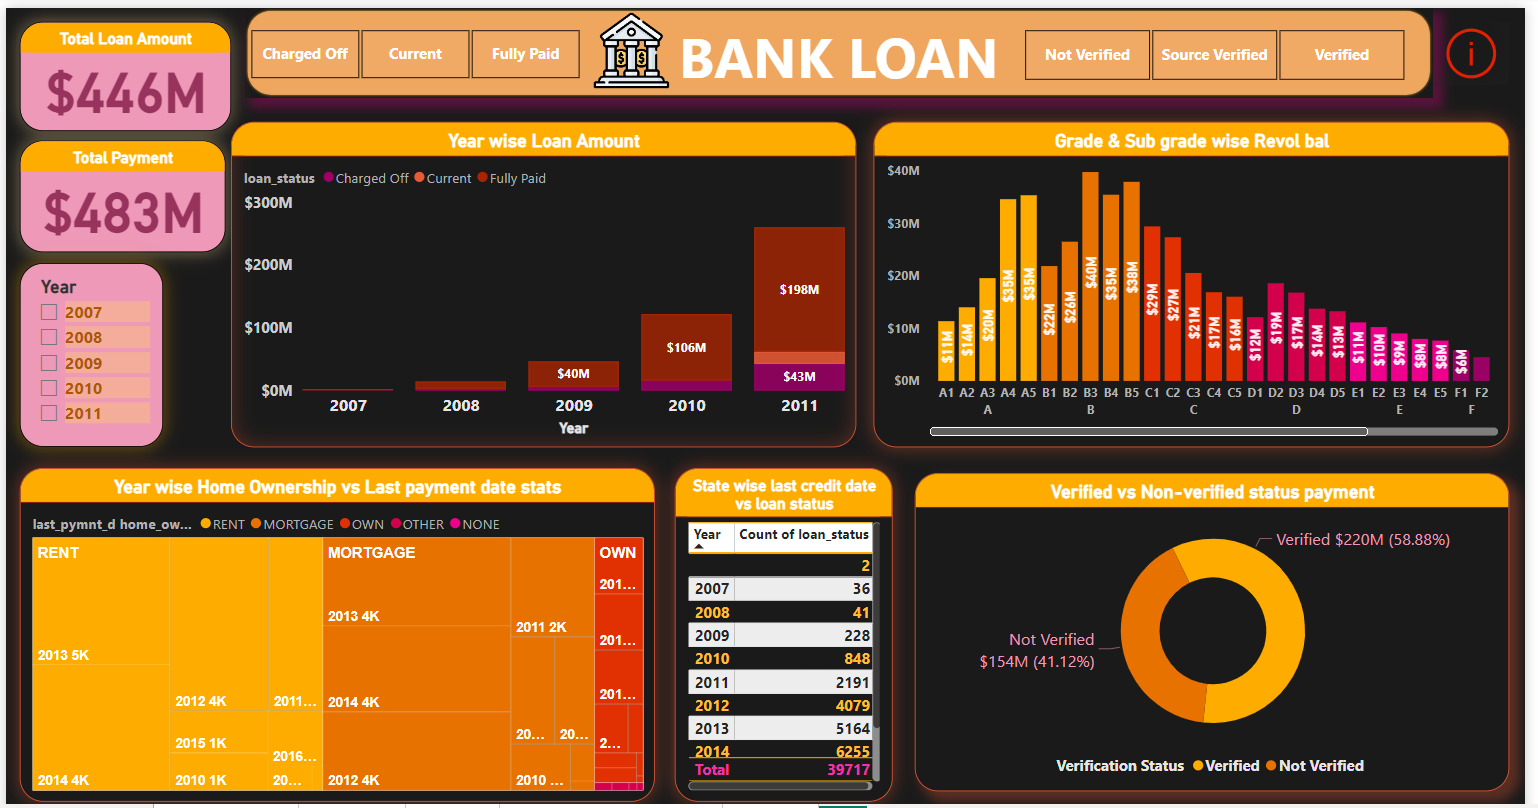

This screenshot's page, from the dashboard's own definition file:
{"tool":"tableau","page":{"name":"Dashboard ","canvas":[1000,1000],"units":"permille","ordinal":0},"visuals":[{"type":"image","param":"Image/—Pngtree—vector bank icon_4173728.png","box":[3,3.5,94.8,195.1]},{"type":"text","box":[98.4,4.7,347,82.3]},{"type":"filter","title":"KPI 1","param":"[federated.107ev8q0wu19dg168xfz61etbuw7].[yr:issue_date:ok]","box":[496.1,4.7,153.3,79.9]},{"type":"filter","title":"KPI 4","param":"[federated.107ev8q0wu19dg168xfz61etbuw7].[yr:last_credit_pull_d:ok]","box":[649.4,4.7,119.5,79.9]},{"type":"dashboard-object","box":[830.4,4.7,153.3,75.2]},{"type":"dashboard-object","box":[450.8,29.4,29,54.1]},{"type":"worksheet","title":"KPI 1","mark":"Line","rows":["loan_amnt"],"cols":["issue_date"],"box":[99.6,87,316.5,397.2]},{"type":"worksheet","title":"KPI 2","mark":"Pie","rows":["Calculation_739997728257245184","Calculation_739997728257245184"],"box":[415.5,87,267.3,399.5]},{"type":"worksheet","title":"Total Customers","mark":"Automatic","box":[3,162.2,94.8,204.5]},{"type":"legend","title":"KPI 5","param":"[federated.107ev8q0wu19dg168xfz61etbuw7].[none:home_ownership:nk]","box":[732.1,169.2,84.5,131.6]},{"type":"legend","title":"KPI 2","param":"[federated.107ev8q0wu19dg168xfz61etbuw7].[none:verification_status:nk]","box":[622.2,319.6,57.3,99.9]},{"type":"worksheet","title":"Total Payment","mark":"Automatic","box":[2.4,365.4,95.4,200.9]},{"type":"worksheet","title":"KPI 3","mark":"Bar","rows":["revol_bal","revol_bal"],"cols":["grade","sub_grade"],"box":[100.2,486.5,527,514.7]},{"type":"worksheet","title":"Total Loan Amount","mark":"Automatic","box":[1.8,567.6,95.4,197.4]},{"type":"worksheet","title":"Total profit","mark":"Automatic","box":[2.4,763.8,94.8,232.7]}]}

Visuals, with their boxes on the dashboard's canvas, which has no fixed pixel size, in thousandths of its width and height (x1, y1, x2, y2). These are canvas units, not pixel positions in the 1538x808 screenshot, which may show the page scaled, cropped or inside an application window:
image: [3,4,98,199]
text: [98,5,445,87]
"KPI 1" filter: [496,5,649,85]
"KPI 4" filter: [649,5,769,85]
dashboard-object: [830,5,984,80]
dashboard-object: [451,29,480,84]
"KPI 1" worksheet (Line marks): [100,87,416,484]
"KPI 2" worksheet (Pie marks): [416,87,683,486]
"Total Customers" worksheet: [3,162,98,367]
"KPI 5" legend: [732,169,817,301]
"KPI 2" legend: [622,320,680,420]
"Total Payment" worksheet: [2,365,98,566]
"KPI 3" worksheet (Bar marks): [100,486,627,1001]
"Total Loan Amount" worksheet: [2,568,97,765]
"Total profit" worksheet: [2,764,97,996]
